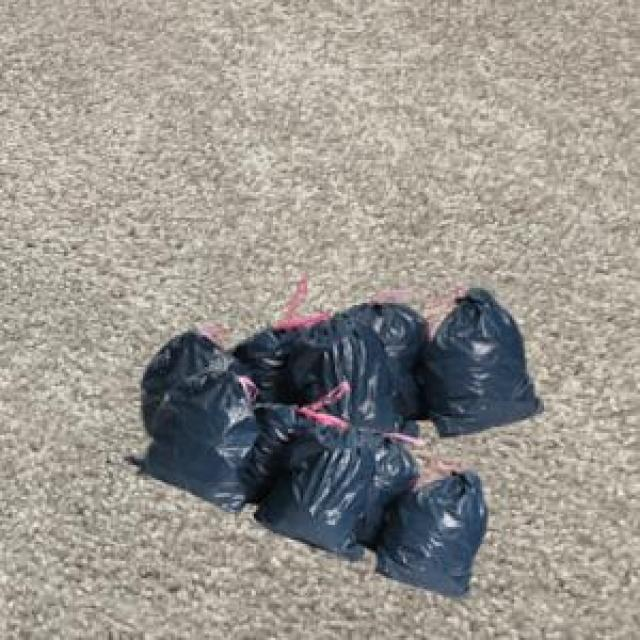miscellaneous trash: (122, 367, 484, 595), (137, 271, 540, 440)
